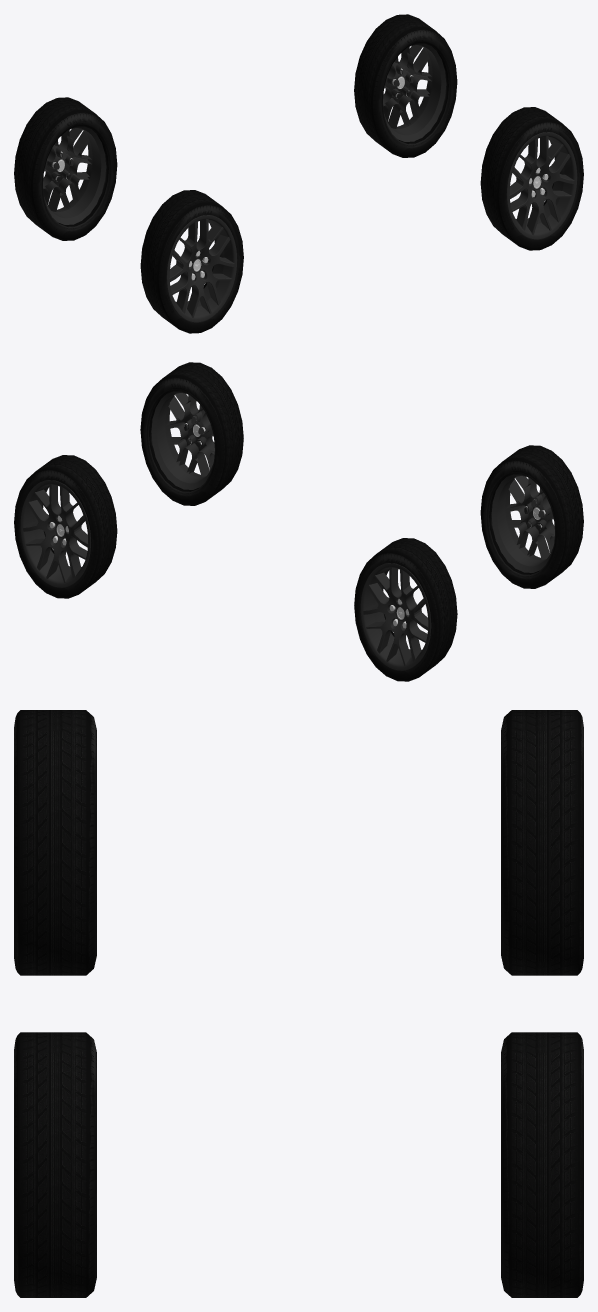
The model's file is mustang_wheels.glb.
3 views of the same model, one above another, from view 1: azimuth 30°, elevation 25°; view 2: azimuth 150°, elevation 25°; view 3: azimuth 270°, elevation 25° (orthographic). The views are drawn at different scales.
Parts seen in each view (by area): view 1: FrdPerofrmcRim001_Material #205_0, FrdPerofrmcRim_Material #205_0, FrdPerofrmcRim002_Material #205_0, FrdPerofrmcRim003_Material #205_0, tire002_rubbr2_0, tire003_rubbr2_0, tire_rubbr2_0, tire001_rubbr2_0, tire002_rubbr1_0, tire003_rubbr1_0, tire001_rubbr1_0, tire_rubbr1_0; view 2: FrdPerofrmcRim003_Material #205_0, FrdPerofrmcRim002_Material #205_0, FrdPerofrmcRim_Material #205_0, FrdPerofrmcRim001_Material #205_0, tire_rubbr2_0, tire001_rubbr2_0, tire003_rubbr2_0, tire002_rubbr2_0, tire_rubbr1_0, tire001_rubbr1_0, tire002_rubbr1_0, tire003_rubbr1_0; view 3: tire001_rubbr1_0, tire002_rubbr1_0, tire003_rubbr1_0, tire_rubbr1_0, tire002_rubbr2_0, tire_rubbr2_0, tire001_rubbr2_0, tire003_rubbr2_0.
Boxes of the visible parts, x1,y1,x2,y2 form: FrdPerofrmcRim001_Material #205_0: (506, 132, 577, 239); FrdPerofrmcRim_Material #205_0: (166, 215, 237, 322); FrdPerofrmcRim002_Material #205_0: (383, 43, 446, 141); FrdPerofrmcRim003_Material #205_0: (43, 126, 106, 224); tire002_rubbr2_0: (371, 27, 457, 157); tire003_rubbr2_0: (31, 109, 117, 240); tire_rubbr2_0: (142, 202, 243, 333); tire001_rubbr2_0: (484, 119, 583, 250); tire002_rubbr1_0: (354, 14, 434, 153); tire003_rubbr1_0: (14, 97, 94, 236); tire001_rubbr1_0: (480, 107, 561, 245); tire_rubbr1_0: (140, 190, 221, 328); FrdPerofrmcRim003_Material #205_0: (360, 563, 431, 670); FrdPerofrmcRim002_Material #205_0: (20, 480, 90, 587); FrdPerofrmcRim_Material #205_0: (491, 474, 554, 572); FrdPerofrmcRim001_Material #205_0: (151, 391, 214, 489); tire_rubbr2_0: (480, 457, 566, 588); tire001_rubbr2_0: (140, 374, 226, 505); tire003_rubbr2_0: (354, 550, 450, 681); tire002_rubbr2_0: (14, 467, 111, 598); tire_rubbr1_0: (503, 445, 583, 584); tire001_rubbr1_0: (162, 362, 243, 500); tire002_rubbr1_0: (36, 455, 117, 593); tire003_rubbr1_0: (376, 538, 457, 676); tire001_rubbr1_0: (20, 1032, 86, 1297); tire002_rubbr1_0: (511, 1032, 577, 1297); tire003_rubbr1_0: (511, 710, 577, 975); tire_rubbr1_0: (20, 710, 86, 975); tire002_rubbr2_0: (501, 1032, 583, 1297); tire_rubbr2_0: (14, 710, 96, 975); tire001_rubbr2_0: (14, 1033, 96, 1297); tire003_rubbr2_0: (501, 710, 583, 974).
Size of the model in its own units: 3.89 by 1.14 by 2.32.
5 materials, 2 textured.
